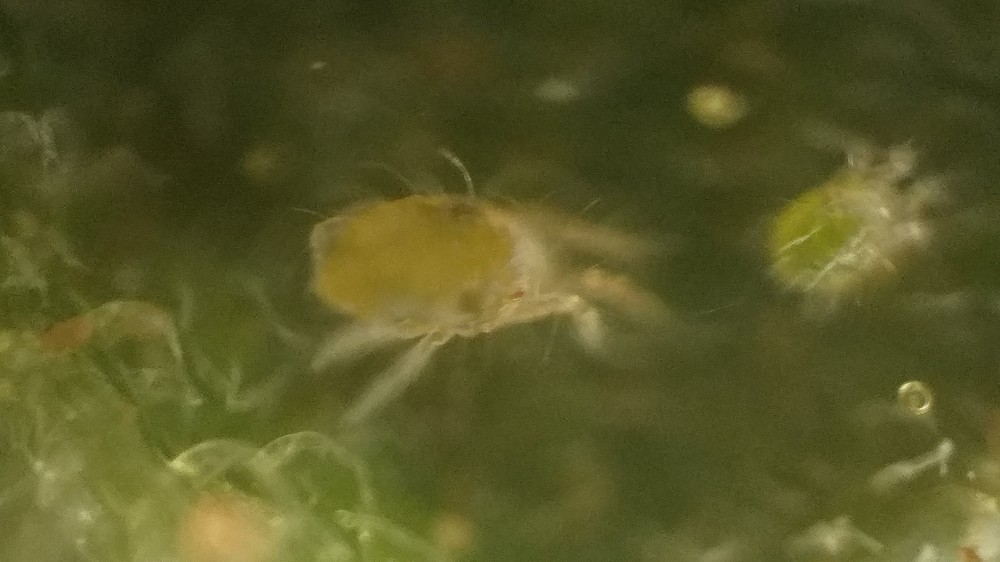Aracnido Rojo: (301, 78, 686, 463), (759, 111, 966, 318)
